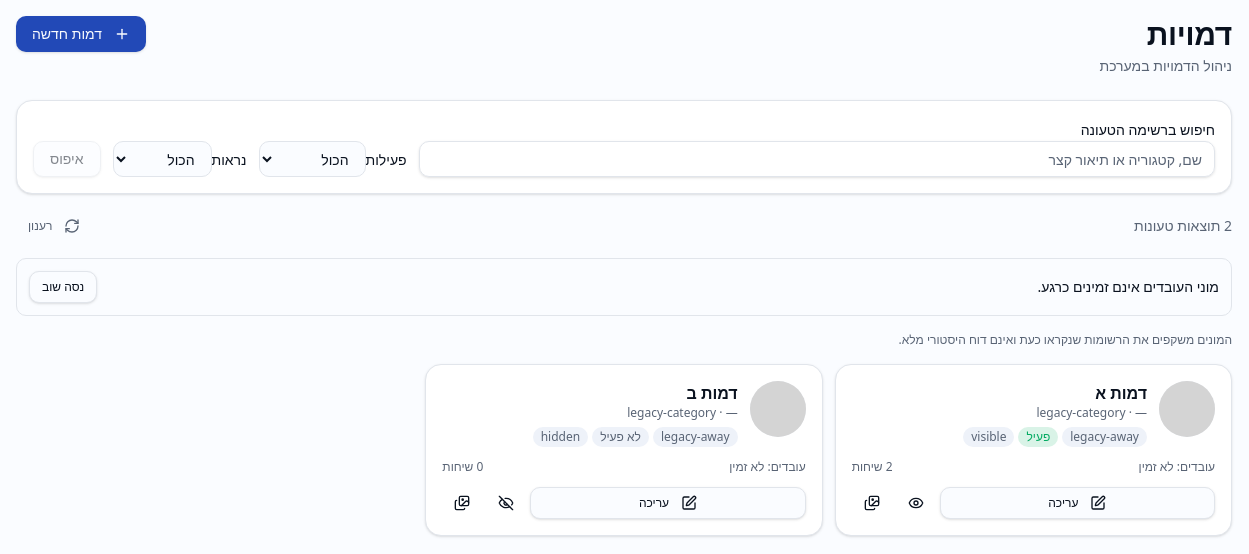
admin character workspace › keeps the list when one counter fails and retries that counter independently
This screenshot has width=1249, height=554.
Expected: the text "עובדים: לא זמין" in the row of "2 שיחות" is shown, left=1139, top=458, right=1215, bottom=475
Expected: the text "2 שיחות" is shown, left=852, top=459, right=893, bottom=475
Click the button with aria-label "נסה שוב לטעון מוני עובדים". click: (63, 287)
box: left=29, top=271, right=97, bottom=303
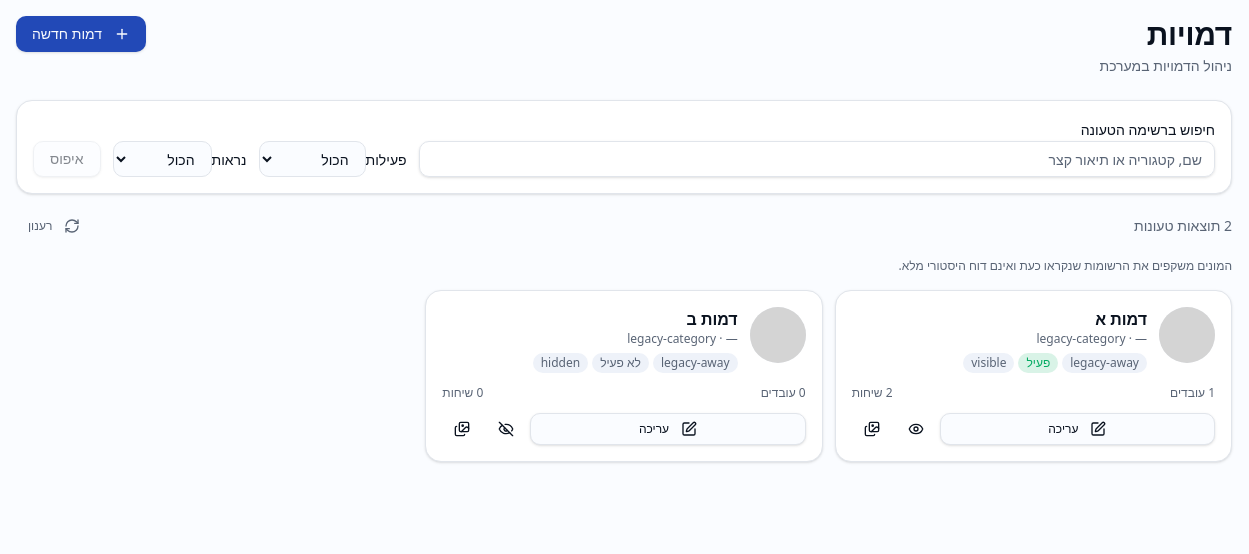
Expected: the text "דמות א" is shown, left=1095, top=308, right=1147, bottom=330
Result: the text "1 עובדים" is shown at left=1170, top=385, right=1215, bottom=401
